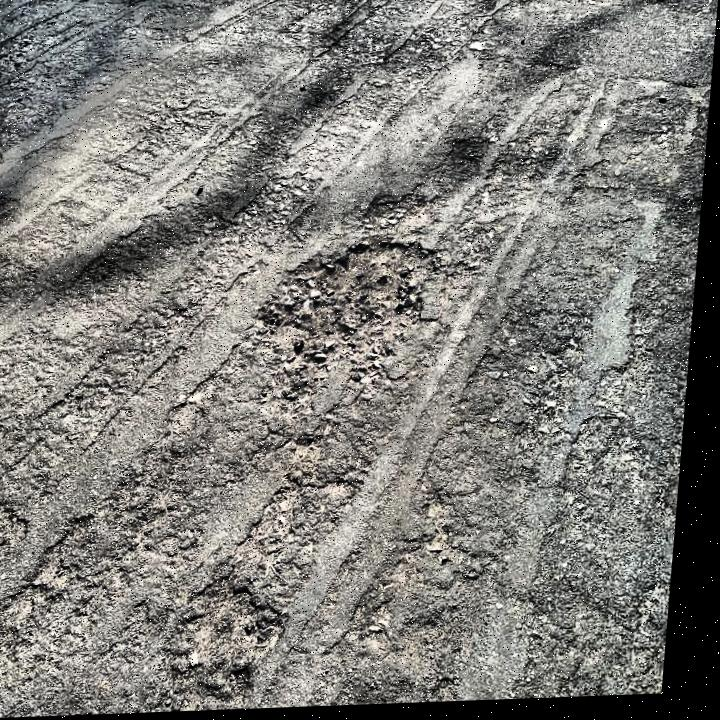pothole: (243, 235, 453, 393), (363, 192, 430, 236)
